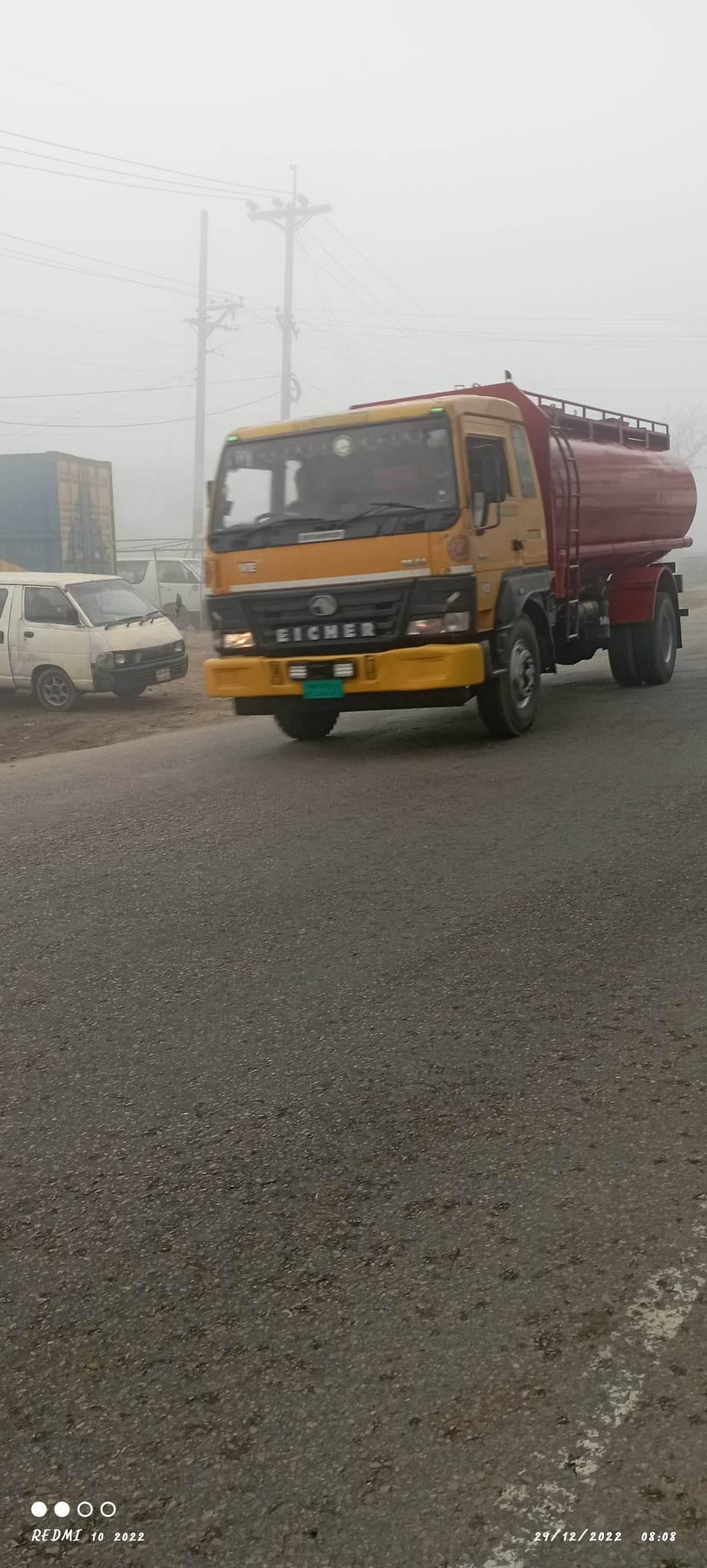Car: (6, 543, 212, 728)
Truck: (183, 331, 699, 766)
